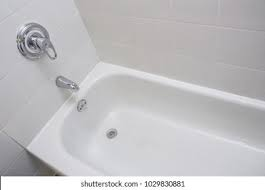bathub: (30, 62, 265, 190)
